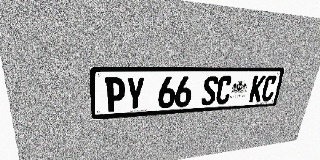6: (157, 76, 177, 109), (174, 76, 193, 107)
C: (215, 76, 233, 105), (260, 75, 278, 102)
K: (248, 75, 266, 102)
P: (105, 77, 125, 112)
S: (200, 76, 219, 106)
Y: (126, 77, 145, 111)
